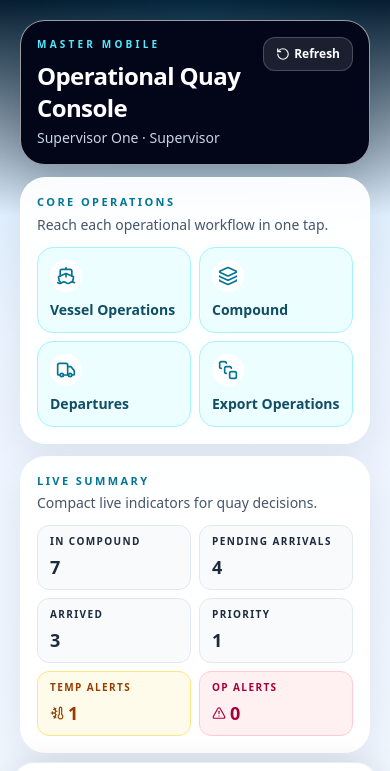
Test case: SupervisorMobileDashboard › submits ARRIVED using the mobile action contract and enforces per-trailer busy scope
The width and height of the screenshot is (390, 771).
Click the button "Vessel Operations" at x=114, y=290, box [37, 246, 191, 332]
(page scrolled)
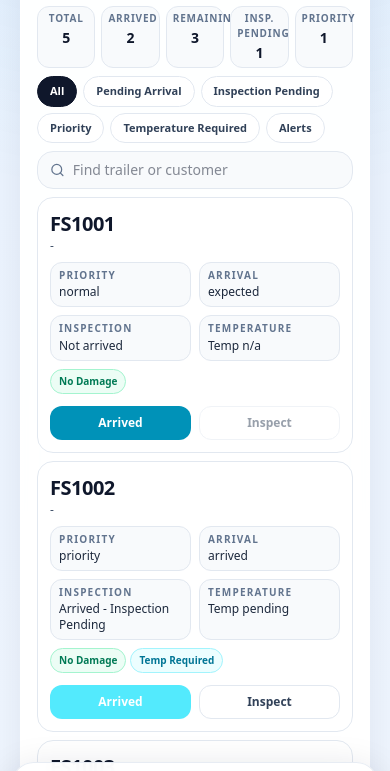
Now the text "FS1001" is shown, box [50, 210, 115, 237]
Now the text "FS1002" is shown, box [50, 474, 115, 501]
Now the button "Arrived" below "FS1001" is enabled
Click the button "Arrived" below "FS1001" at x=120, y=423, box [50, 406, 191, 440]
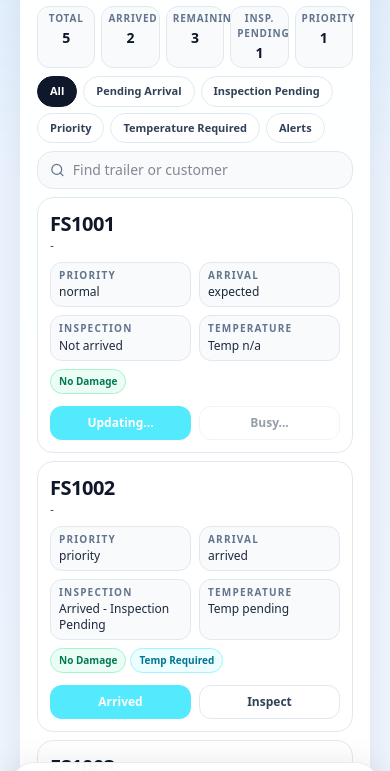
Now the button "Updating..." is disabled
Click the button "Updating..." at x=120, y=423, box [50, 406, 191, 440]
(page scrolled)
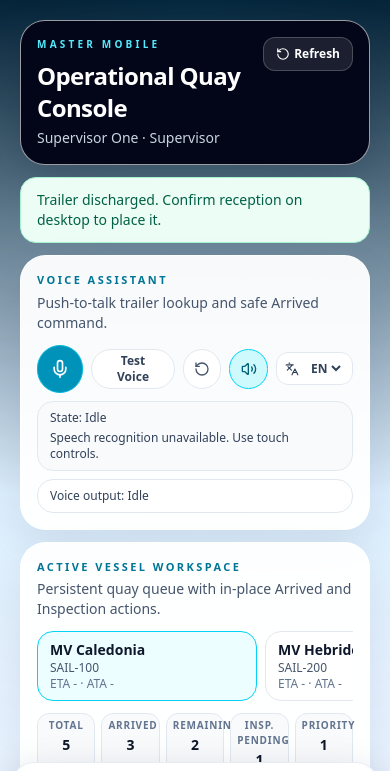
Now the text "Trailer discharged. Confirm reception on desktop to place it." is shown, box [20, 177, 370, 243]
